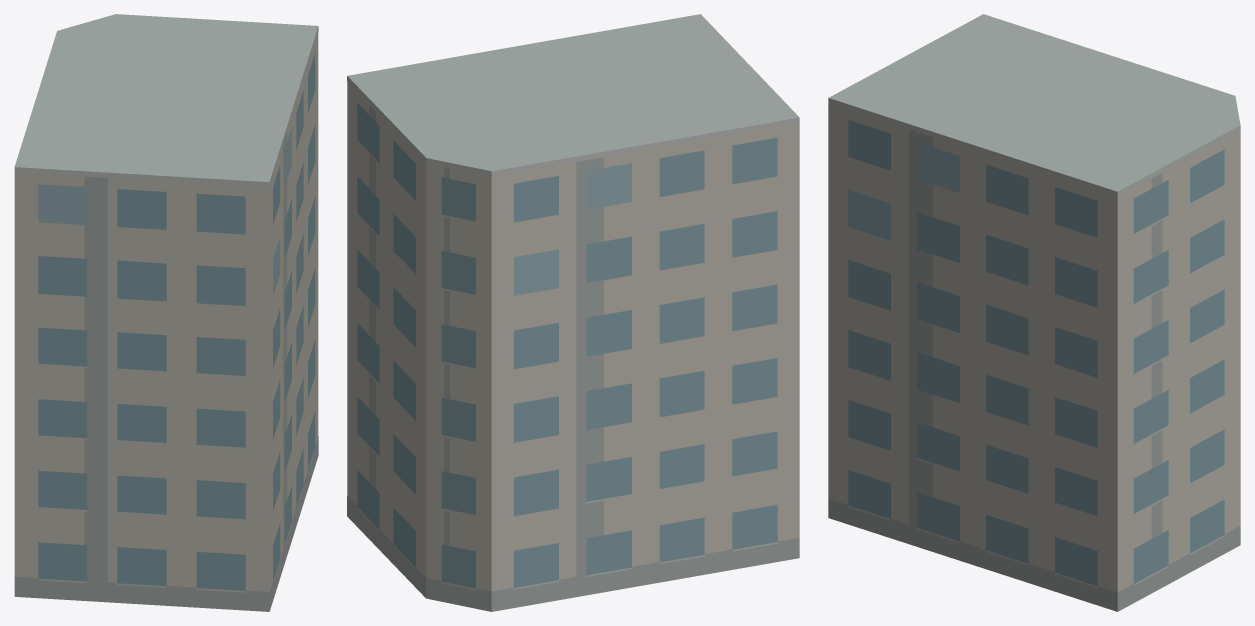
File: survey-upis-32884815.glb
3 views of the same model, side by side, from view 1: azimuth 30°, elevation 25°; view 2: azimuth 150°, elevation 25°; view 3: azimuth 270°, elevation 25° (orthographic). The views are drawn at different scales.
Parts seen in each view (by area): view 1: survey-upis-32884815.tmp; view 2: survey-upis-32884815.tmp; view 3: survey-upis-32884815.tmp.
Part boxes in pixels (box(x1,y1,x2,y2)): survey-upis-32884815.tmp: box(14, 14, 318, 611); survey-upis-32884815.tmp: box(347, 14, 799, 611); survey-upis-32884815.tmp: box(828, 14, 1240, 611).
Bounding box in the file's own units: 17.25 × 19 × 16.9.
